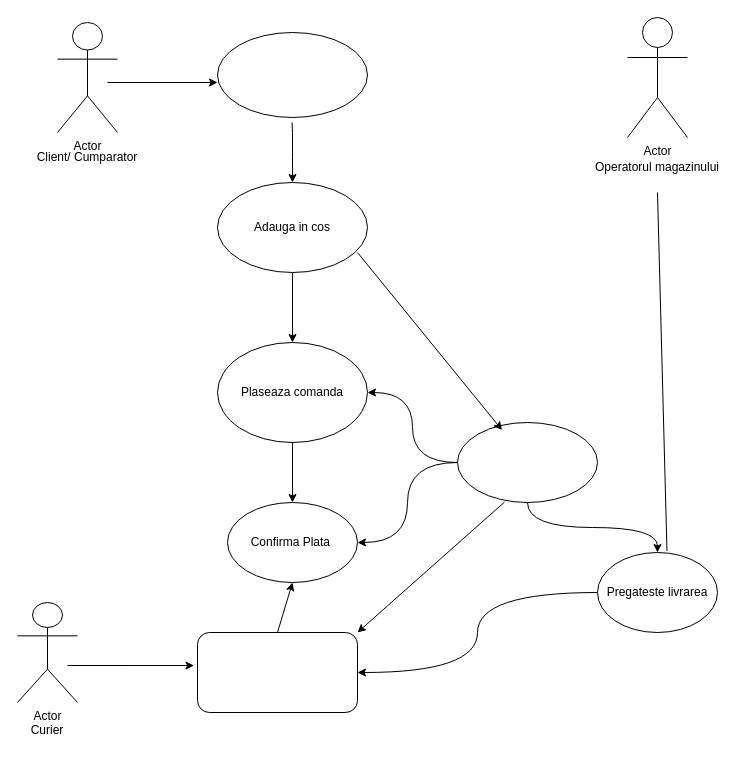
This 750x770 diagram has some shape labels left out. Here are the shapes that lost their labels. From the top down, the centre of each, then its label:
the point at 292,75: Navigheaza catalog produse
the point at 527,462: Proceseaza comenzile
the point at 277,672: EcommerceSystem [software system]
